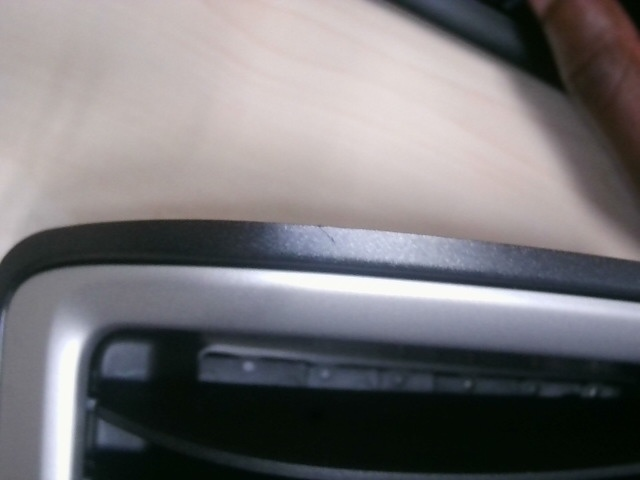NG: (310, 220, 348, 254)
